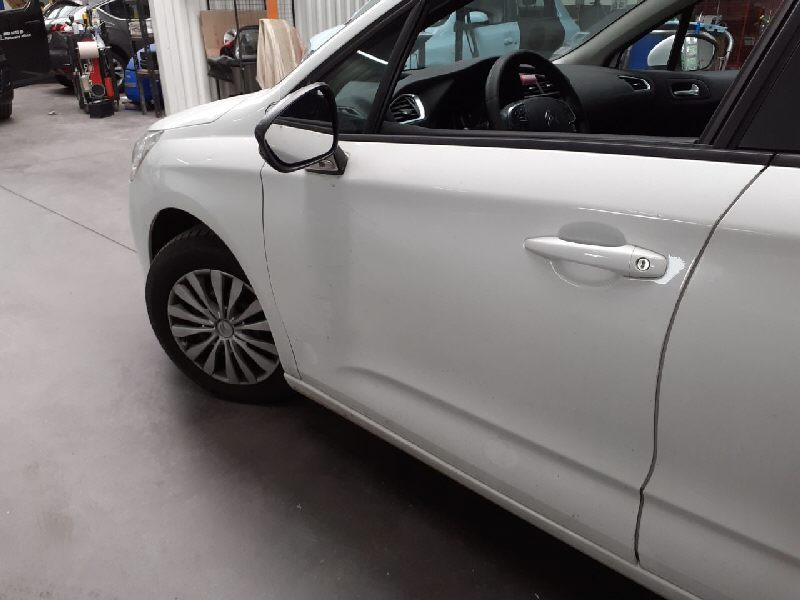front door: (266, 1, 699, 570)
